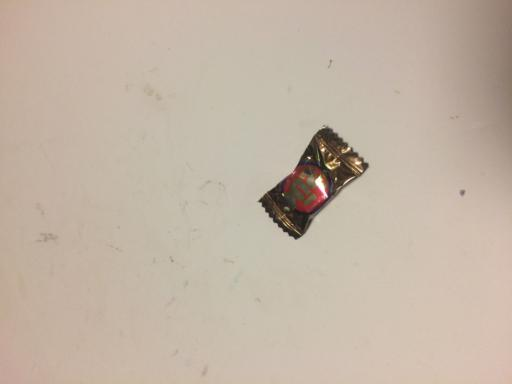trash: (256, 128, 370, 240)
